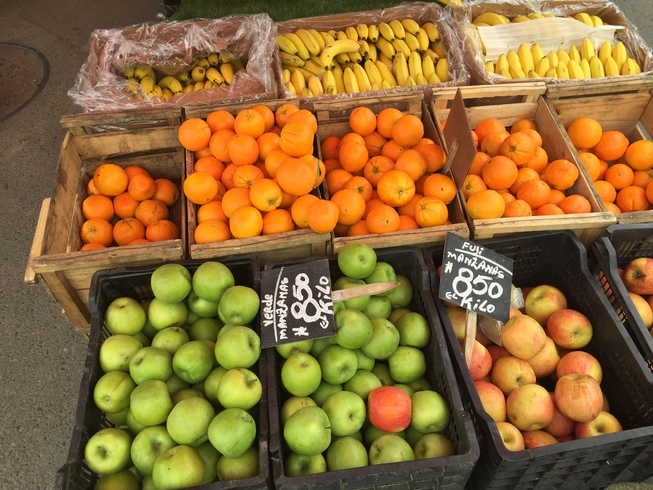precio: (257, 251, 346, 361), (433, 228, 519, 333)
